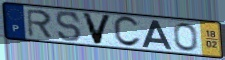A: (141, 19, 174, 51)
C: (112, 15, 142, 48)
O: (172, 22, 200, 53)
R: (25, 8, 54, 39)
S: (55, 10, 84, 43)
V: (80, 11, 114, 46)
